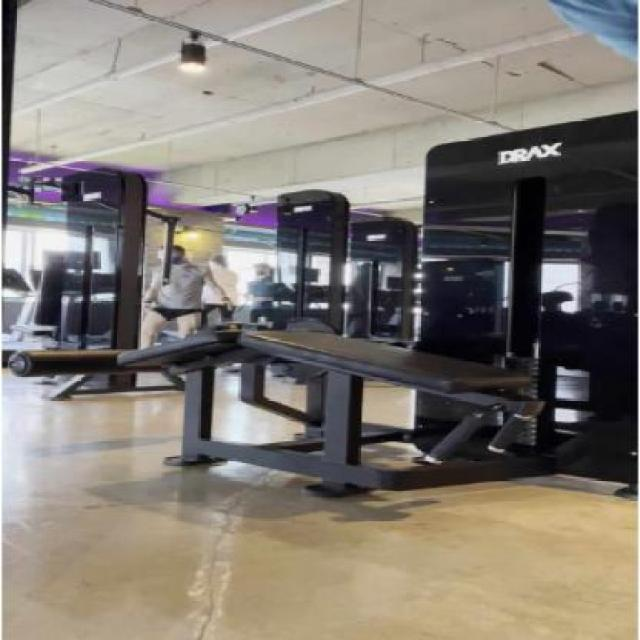reg curl machine: (7, 106, 640, 517)
